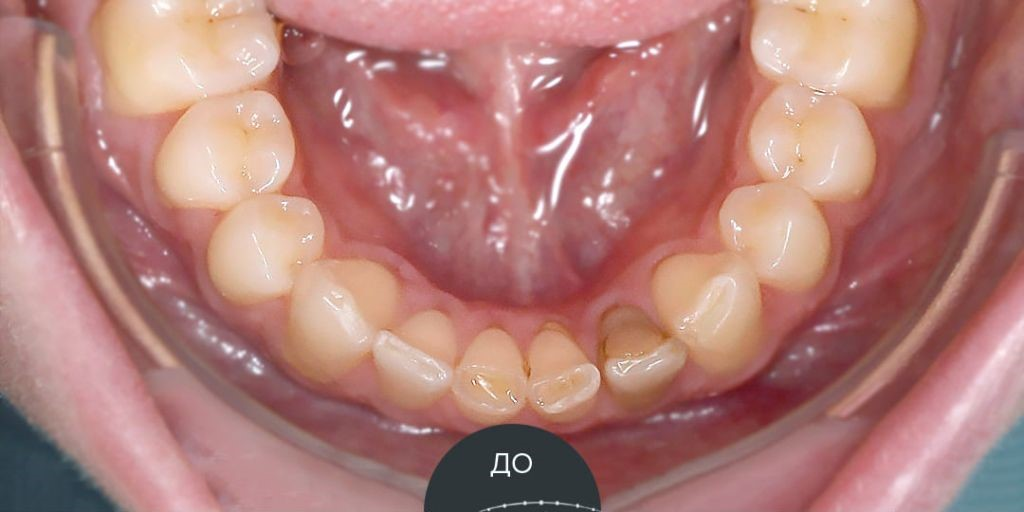LL1BC_healthy: (724, 186, 831, 284)
LL1M_decay: (760, 1, 918, 100)
LL2BC_decay: (756, 85, 873, 200)
LLCI_decay: (531, 329, 599, 421)
LLC_healthy: (661, 254, 765, 367)
LLLI_decay: (599, 306, 683, 409)
LR1BC_healthy: (212, 199, 321, 295)
LR1M_healthy: (111, 2, 272, 94)
LR2BC_healthy: (165, 102, 288, 200)
LRCI_decay: (458, 327, 527, 418)
LRC_healthy: (299, 257, 386, 371)
LRLI_healthy: (382, 307, 456, 408)
